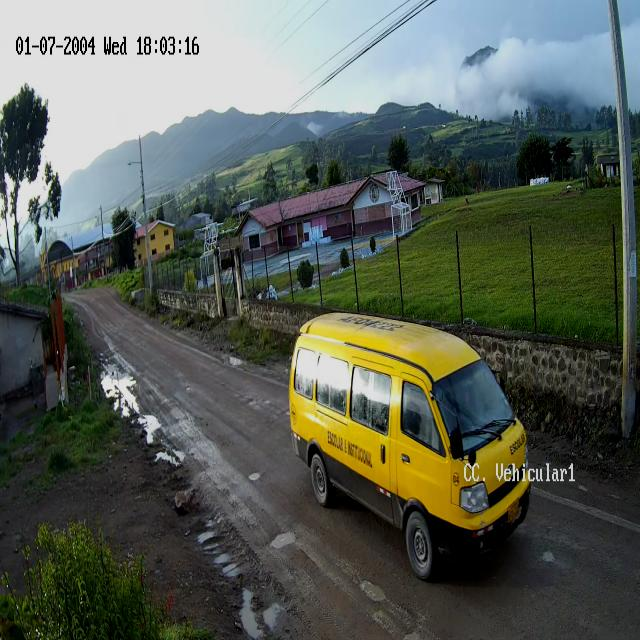BUS: (287, 313, 532, 582)
